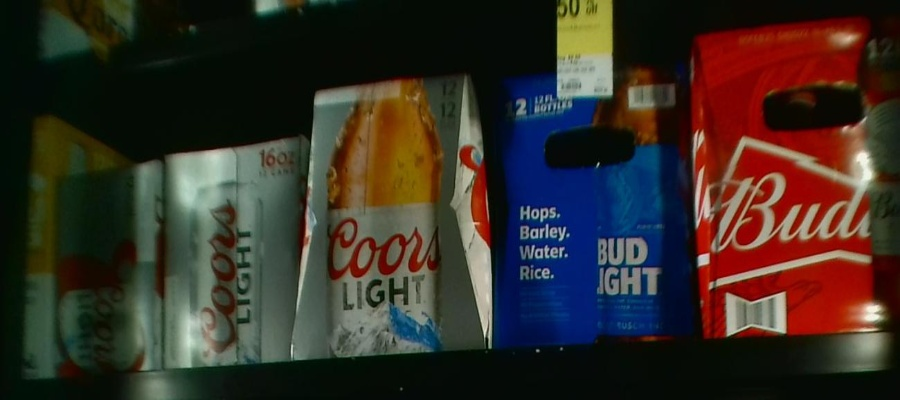bottle: (696, 26, 900, 339), (492, 69, 699, 342), (312, 87, 479, 347), (165, 144, 303, 358), (48, 158, 163, 372)
